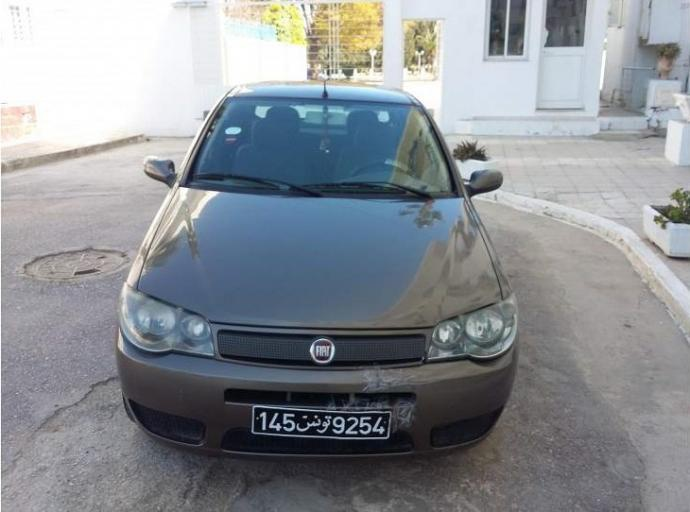LP: (248, 403, 394, 443)
